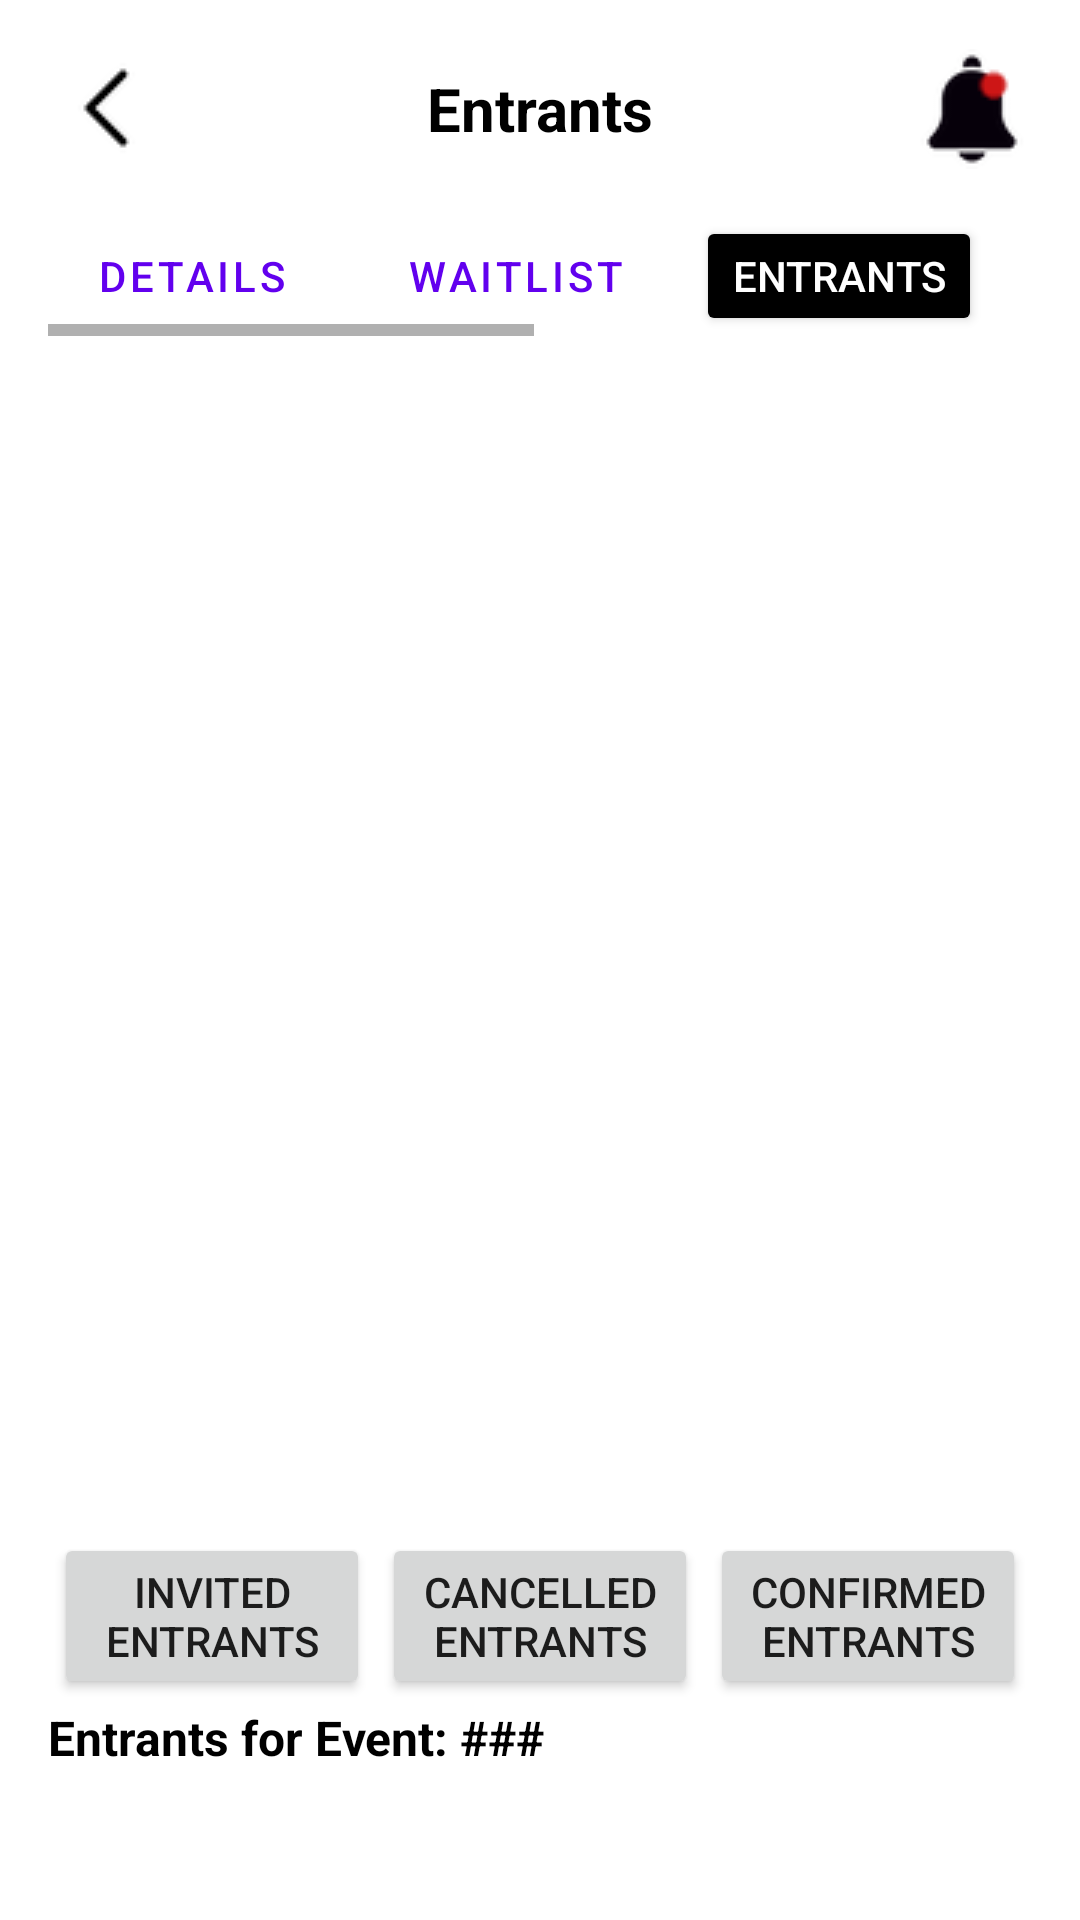

Icon bounding boxes for this 1080w x 1920h phone screenshot, format {"x1": x1, "y1": y1, "x2": x2, "y2": y2}:
left arrow: {"x1": 83, "y1": 68, "x2": 130, "y2": 148}
notification popular: {"x1": 926, "y1": 54, "x2": 1018, "y2": 164}
